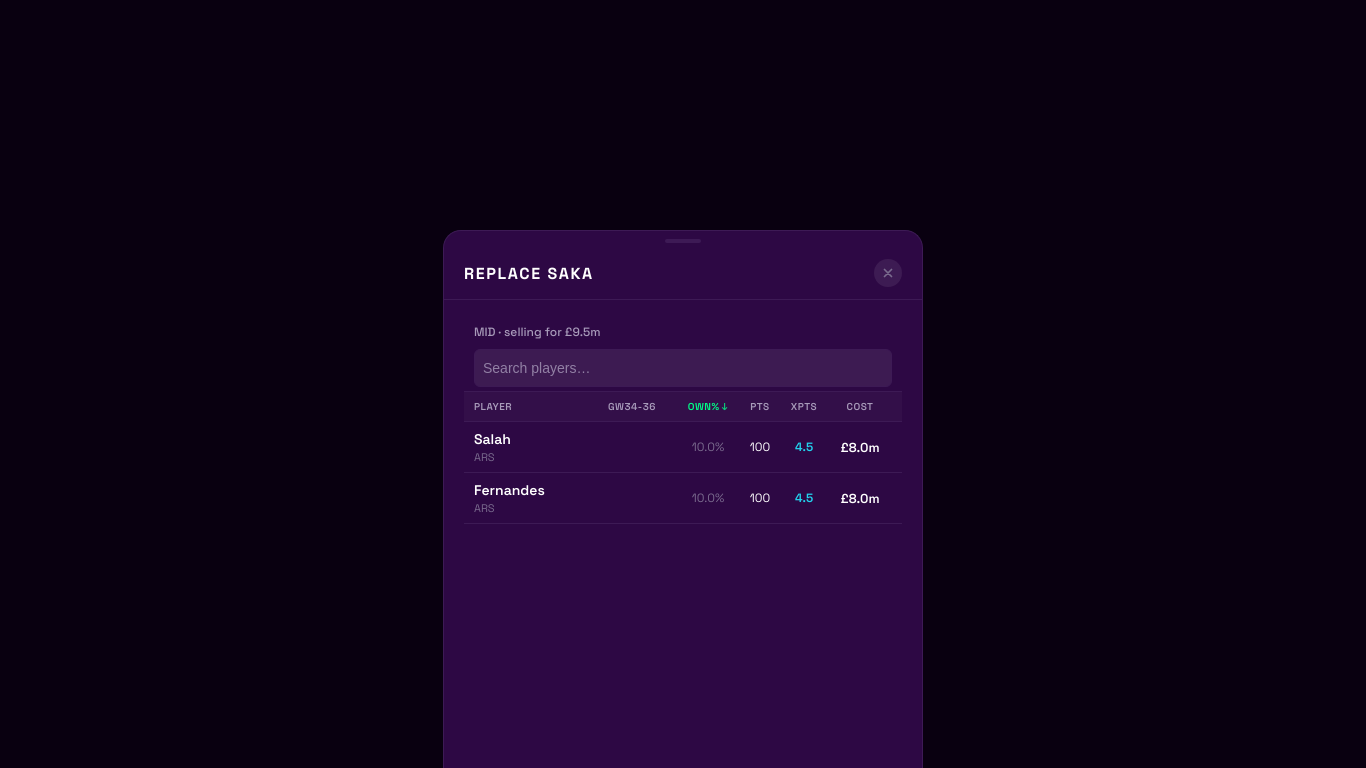
Test case: PlayerPickerSheet › filters candidates by search query
Type "sal" into the search field with placeholder "Search players…" at [683, 368], box [474,349,892,387]
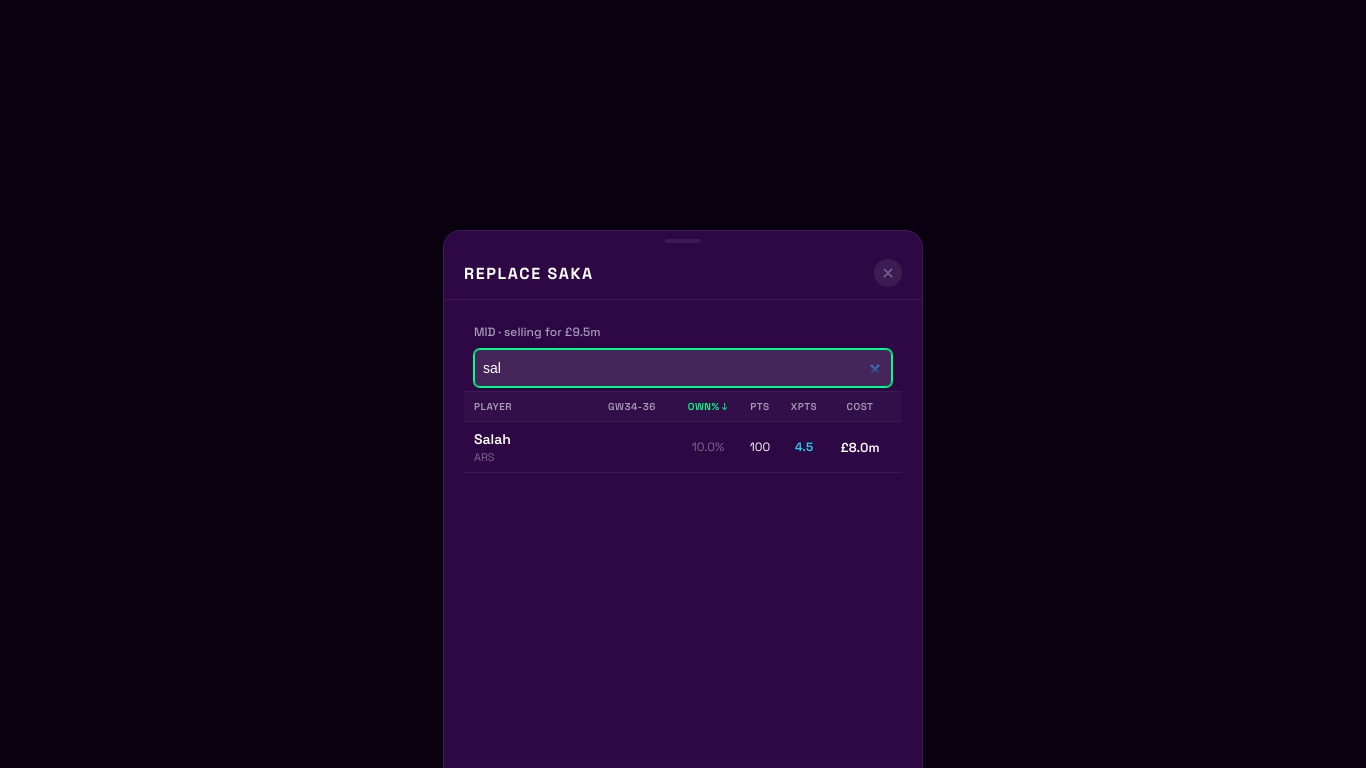
Expected: the text "Salah" is shown, [474,430,511,448]
Now the button "Fernandes" is gone
